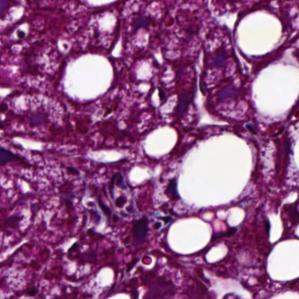inflammation: (106, 184, 142, 222)
